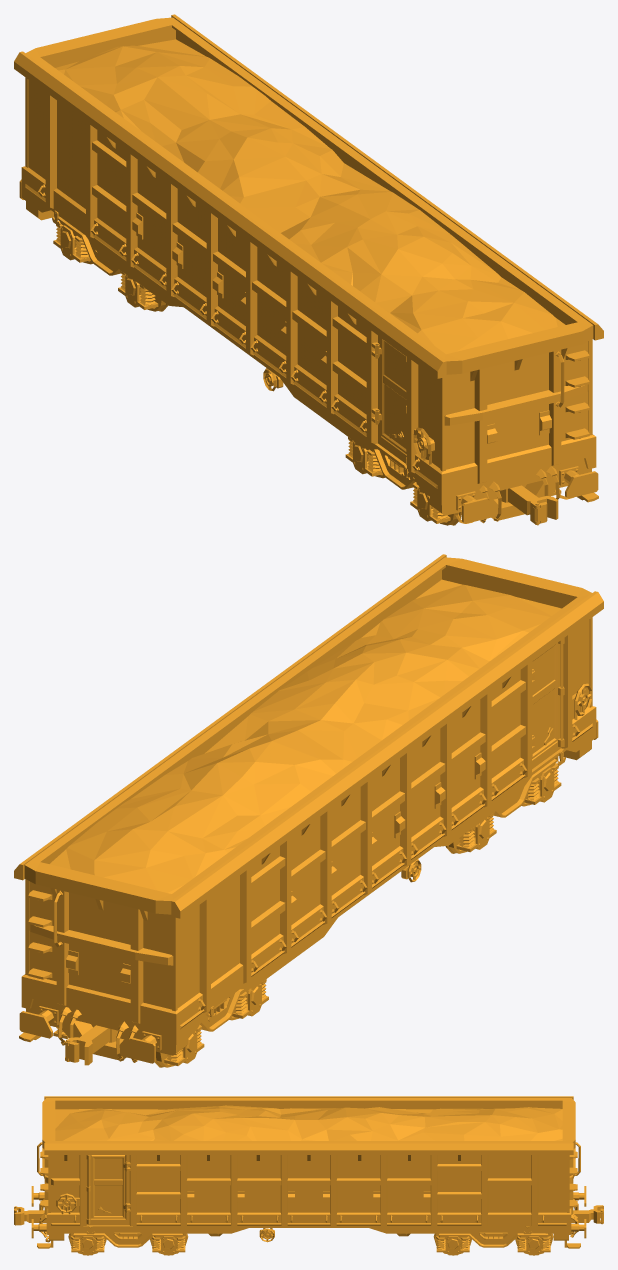
The model's file is SM_Train_Wagon_Cargo_A_Sand.fbx.
The picture shows the model from 3 angles, top to bottom: view 1: azimuth 30°, elevation 25°; view 2: azimuth 150°, elevation 25°; view 3: azimuth 270°, elevation 25°; orthographic projection. The views are drawn at different scales.
Parts seen in each view (by area): view 1: SM_Train_Wagon_Cargo_A_Sand_Base, SM_Train_Wagon_Cargo_A_Sand_Base_Chassis_B, SM_Train_Wagon_Cargo_A_Sand_Base_Chassis_F, SM_Train_Wagon_Cargo_A_Sand_Base_Joint_F; view 2: SM_Train_Wagon_Cargo_A_Sand_Base, SM_Train_Wagon_Cargo_A_Sand_Base_Chassis_F, SM_Train_Wagon_Cargo_A_Sand_Base_Chassis_B, SM_Train_Wagon_Cargo_A_Sand_Base_Joint_B; view 3: SM_Train_Wagon_Cargo_A_Sand_Base, SM_Train_Wagon_Cargo_A_Sand_Base_Chassis_F, SM_Train_Wagon_Cargo_A_Sand_Base_Chassis_B, SM_Train_Wagon_Cargo_A_Sand_Base_Joint_F, SM_Train_Wagon_Cargo_A_Sand_Base_Joint_B.
Part boxes in pixels (left/top/right/bottom): SM_Train_Wagon_Cargo_A_Sand_Base: left=14, top=14, right=603, bottom=523; SM_Train_Wagon_Cargo_A_Sand_Base_Chassis_B: left=53, top=216, right=158, bottom=309; SM_Train_Wagon_Cargo_A_Sand_Base_Chassis_F: left=345, top=437, right=561, bottom=523; SM_Train_Wagon_Cargo_A_Sand_Base_Joint_F: left=497, top=485, right=558, bottom=525; SM_Train_Wagon_Cargo_A_Sand_Base: left=14, top=554, right=603, bottom=1063; SM_Train_Wagon_Cargo_A_Sand_Base_Chassis_F: left=456, top=756, right=561, bottom=852; SM_Train_Wagon_Cargo_A_Sand_Base_Chassis_B: left=53, top=979, right=268, bottom=1065; SM_Train_Wagon_Cargo_A_Sand_Base_Joint_B: left=65, top=1025, right=119, bottom=1065; SM_Train_Wagon_Cargo_A_Sand_Base: left=31, top=1096, right=586, bottom=1248; SM_Train_Wagon_Cargo_A_Sand_Base_Chassis_F: left=70, top=1228, right=185, bottom=1255; SM_Train_Wagon_Cargo_A_Sand_Base_Chassis_B: left=436, top=1228, right=551, bottom=1255; SM_Train_Wagon_Cargo_A_Sand_Base_Joint_F: left=14, top=1206, right=46, bottom=1225; SM_Train_Wagon_Cargo_A_Sand_Base_Joint_B: left=571, top=1205, right=603, bottom=1224.
Size of the model in its own units: 3 by 3.51 by 14.61.
